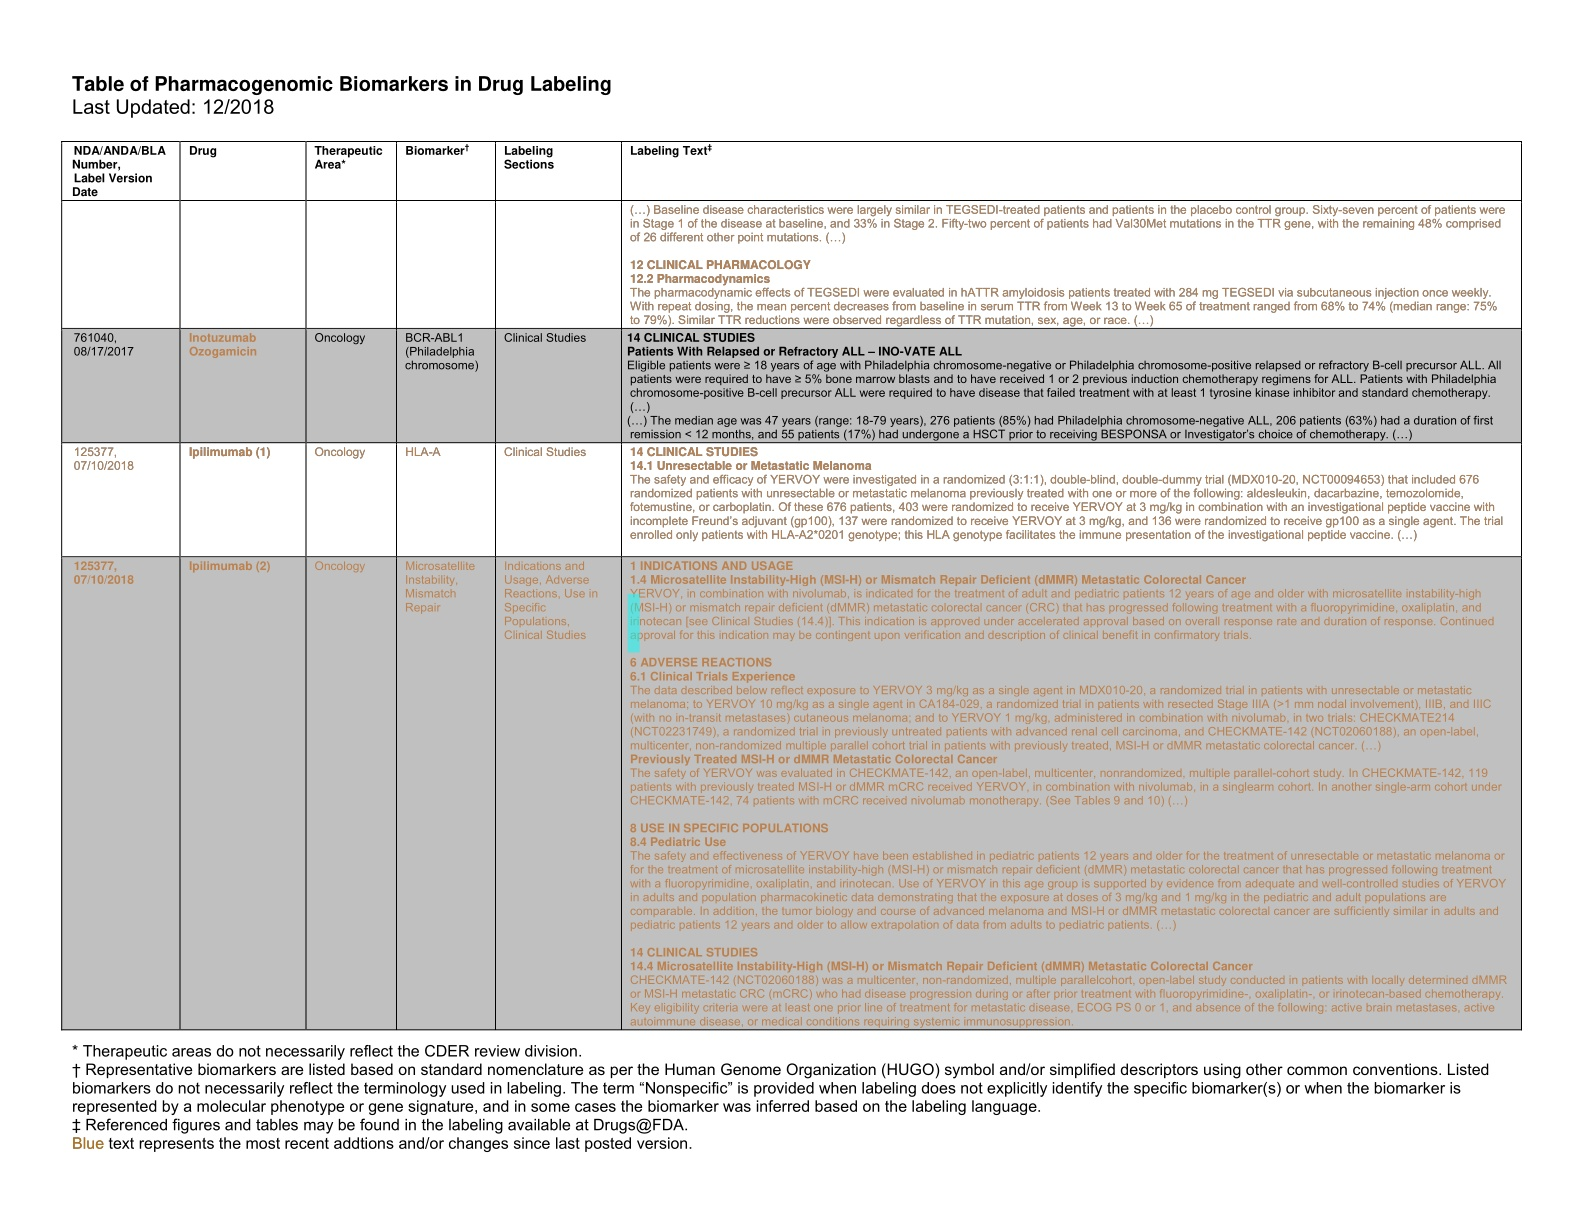full_lined: (60, 140, 1522, 1031)
